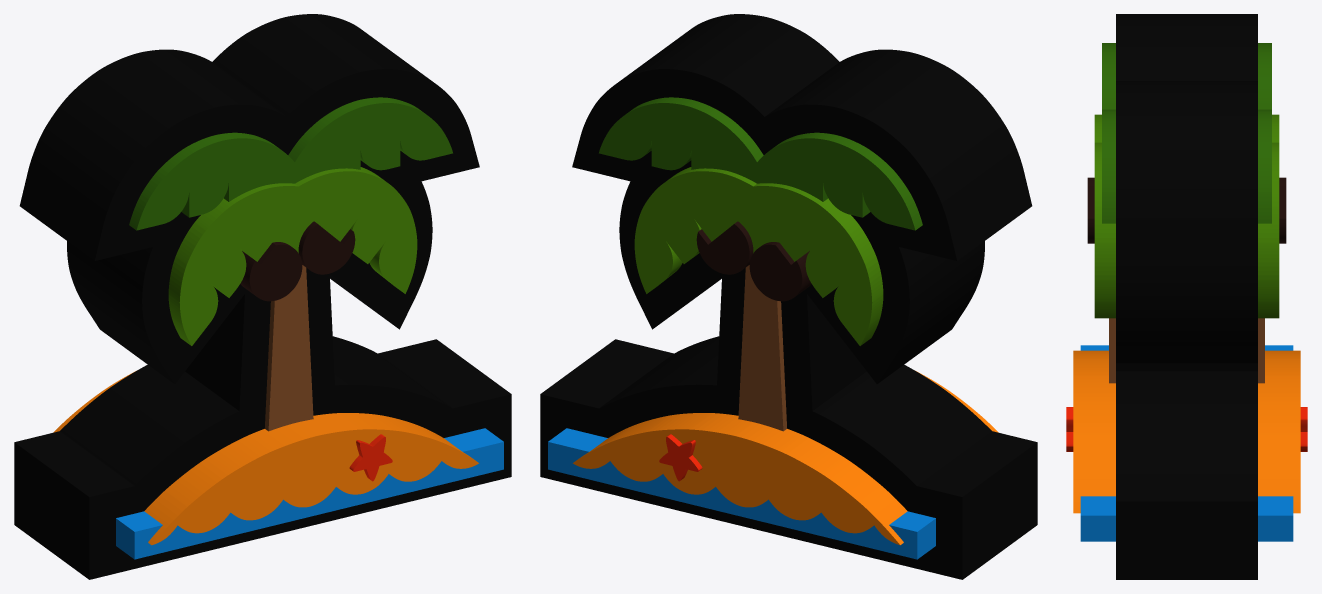
3 renders of one model, left to right at view 1: azimuth 30°, elevation 25°; view 2: azimuth 150°, elevation 25°; view 3: azimuth 270°, elevation 25°, orthographic. The views are drawn at different scales.
Visible parts, largest first — view 1: U+1F3DD_layer00_obj00, U+1F3DD_layer06_obj00, U+1F3DD_layer03_obj00, U+1F3DD_layer02_obj00, U+1F3DD_layer05_obj00, U+1F3DD_layer01_obj00, U+1F3DD_layer04_obj00, U+1F3DD_layer07_obj00; view 2: U+1F3DD_layer00_obj00, U+1F3DD_layer06_obj00, U+1F3DD_layer03_obj00, U+1F3DD_layer02_obj00, U+1F3DD_layer05_obj00, U+1F3DD_layer01_obj00, U+1F3DD_layer04_obj00, U+1F3DD_layer07_obj00; view 3: U+1F3DD_layer00_obj00, U+1F3DD_layer06_obj00, U+1F3DD_layer03_obj00, U+1F3DD_layer02_obj00, U+1F3DD_layer05_obj00, U+1F3DD_layer04_obj00, U+1F3DD_layer01_obj00, U+1F3DD_layer07_obj00.
Boxes of the visible parts, box(x1,y1,x2,y2) form: U+1F3DD_layer00_obj00: box(14, 14, 511, 579); U+1F3DD_layer06_obj00: box(53, 371, 478, 545); U+1F3DD_layer03_obj00: box(168, 167, 417, 345); U+1F3DD_layer02_obj00: box(129, 97, 452, 230); U+1F3DD_layer05_obj00: box(116, 428, 503, 559); U+1F3DD_layer01_obj00: box(265, 265, 313, 431); U+1F3DD_layer04_obj00: box(240, 221, 355, 301); U+1F3DD_layer07_obj00: box(349, 434, 392, 481); U+1F3DD_layer00_obj00: box(540, 14, 1037, 579); U+1F3DD_layer06_obj00: box(573, 371, 998, 545); U+1F3DD_layer03_obj00: box(634, 167, 883, 345); U+1F3DD_layer02_obj00: box(599, 97, 922, 230); U+1F3DD_layer05_obj00: box(548, 428, 935, 559); U+1F3DD_layer01_obj00: box(738, 265, 786, 431); U+1F3DD_layer04_obj00: box(696, 221, 811, 301); U+1F3DD_layer07_obj00: box(659, 434, 702, 481); U+1F3DD_layer00_obj00: box(1116, 14, 1257, 579); U+1F3DD_layer06_obj00: box(1073, 350, 1300, 513); U+1F3DD_layer03_obj00: box(1094, 114, 1279, 318); U+1F3DD_layer02_obj00: box(1102, 43, 1271, 223); U+1F3DD_layer05_obj00: box(1080, 345, 1293, 541); U+1F3DD_layer04_obj00: box(1087, 177, 1286, 243); U+1F3DD_layer01_obj00: box(1109, 318, 1264, 383); U+1F3DD_layer07_obj00: box(1066, 407, 1307, 451).
Size of the model in its own units: 0.6491 by 0.649 by 0.34.
